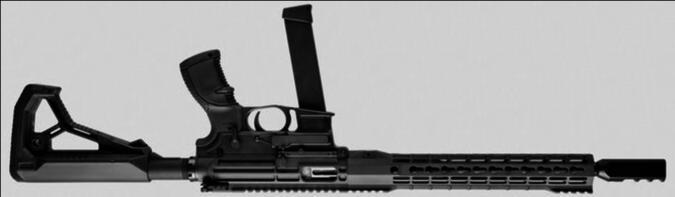gun: (10, 3, 669, 194)
